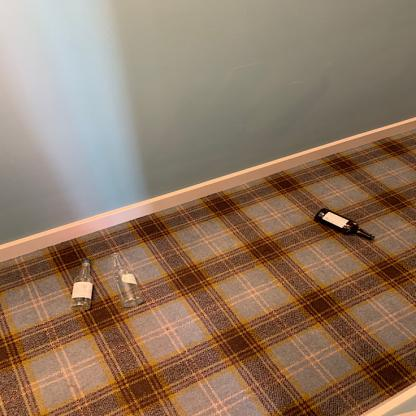trash: (311, 206, 377, 243), (108, 254, 150, 308), (72, 258, 95, 312)
